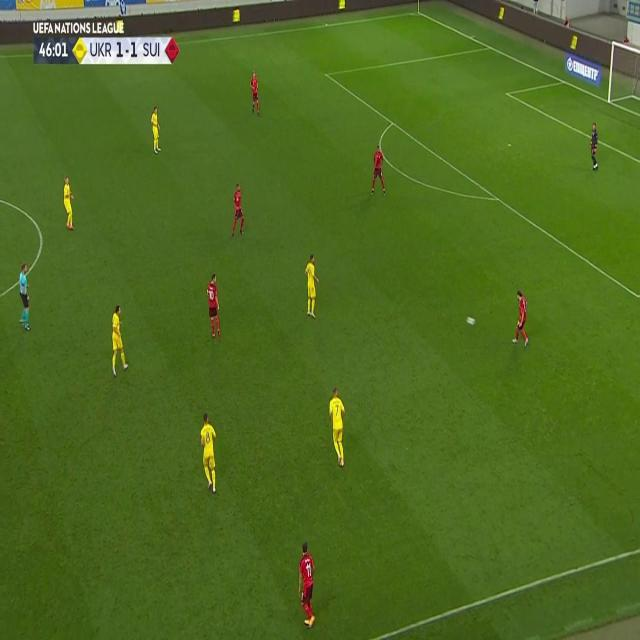ball: (466, 316, 476, 326)
player: (296, 540, 316, 628), (198, 411, 218, 494), (328, 386, 347, 468), (109, 304, 129, 375), (206, 273, 222, 339), (512, 289, 530, 347), (304, 254, 320, 318), (369, 144, 387, 196), (17, 264, 31, 329), (230, 182, 246, 238), (61, 174, 75, 230), (588, 121, 600, 171), (150, 106, 162, 154), (249, 70, 261, 116)
